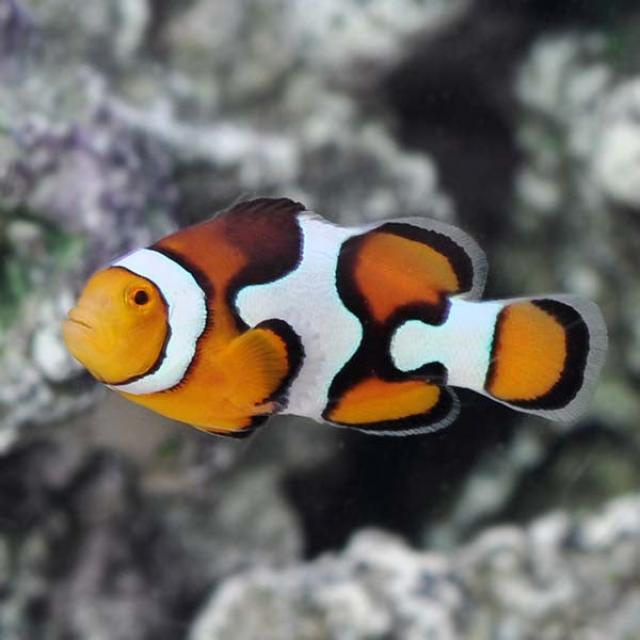ClownFish: (65, 188, 607, 439)
